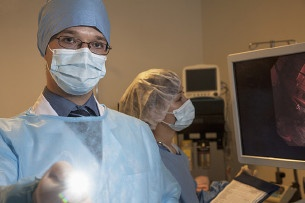Mask: (47, 27, 115, 95)
